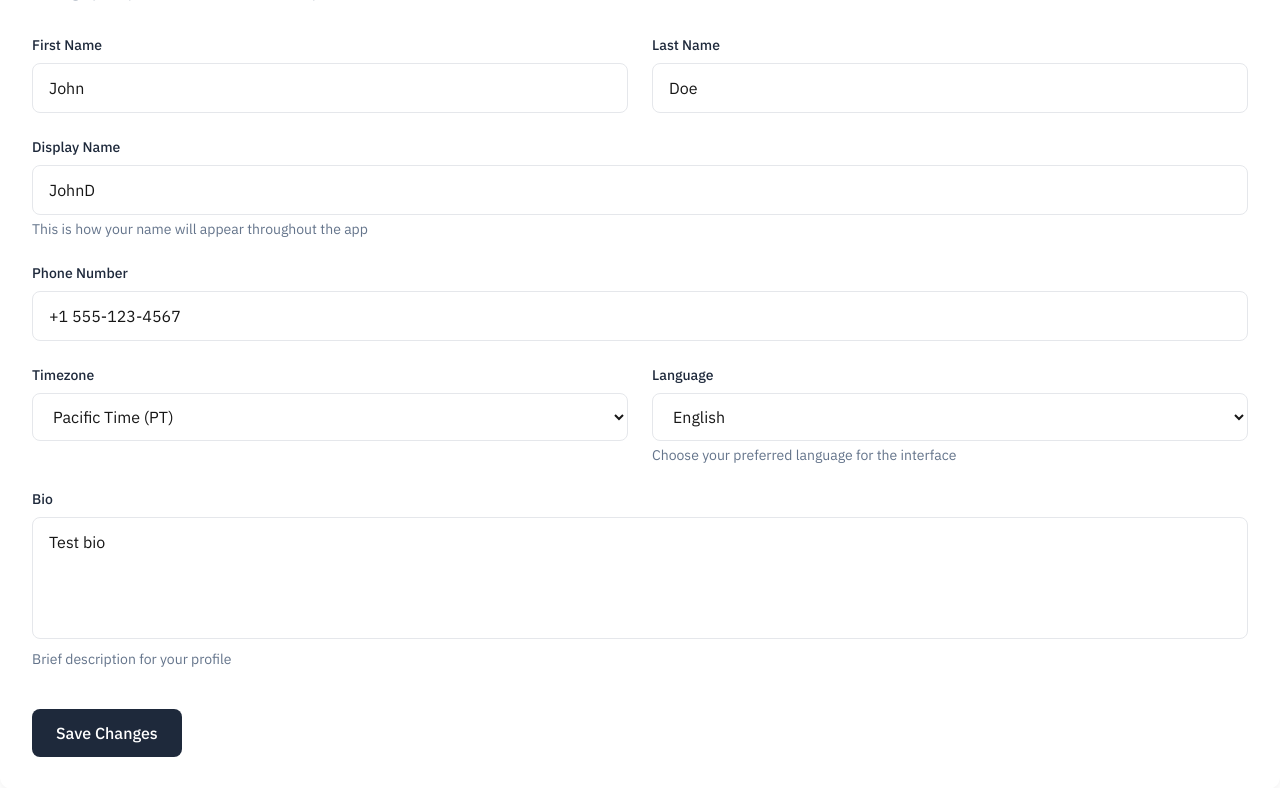
ProfileSettingsPage › form interactions › should show error message when save fails
(page scrolled)
Click the button "Save Changes" at (107, 733), box [32,709,182,757]
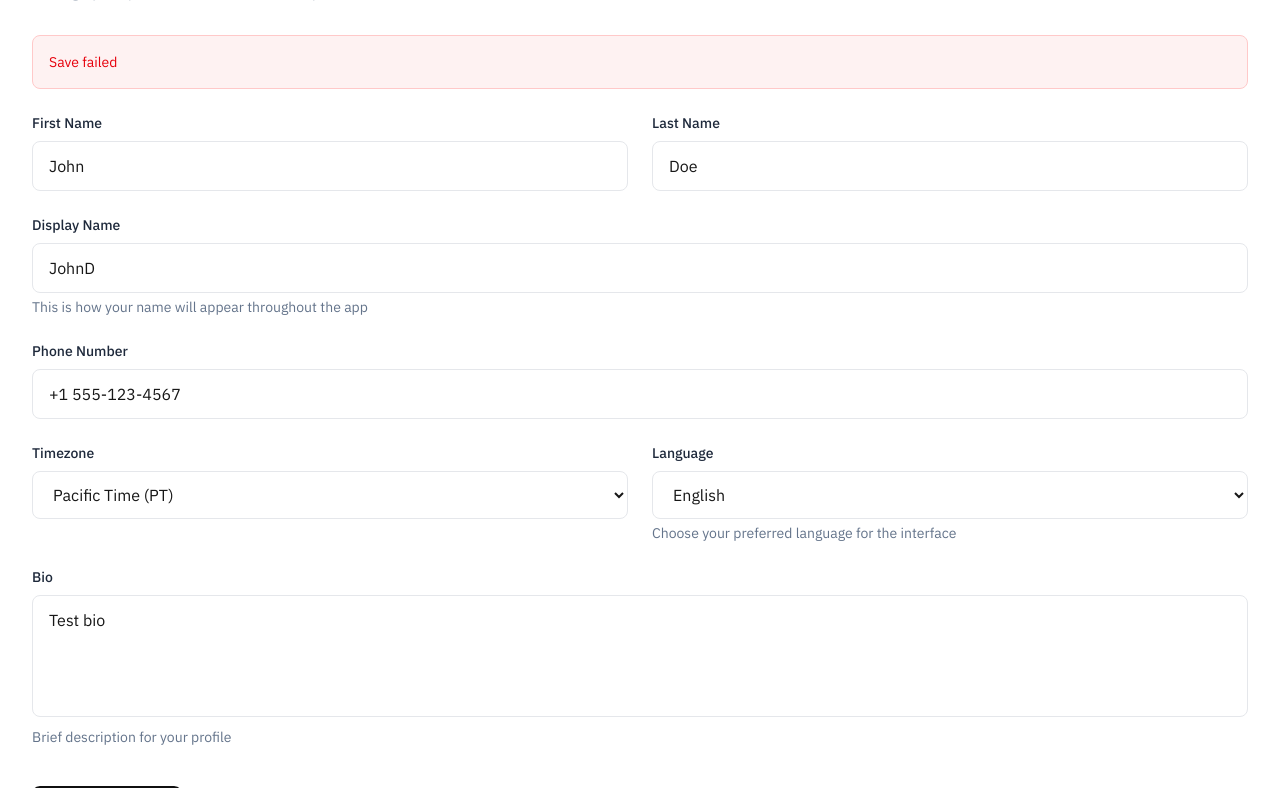
Expected: the text "Save failed" is shown, [49,53,117,71]
